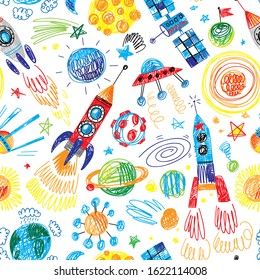roket: (39, 64, 131, 176), (182, 100, 238, 253)
